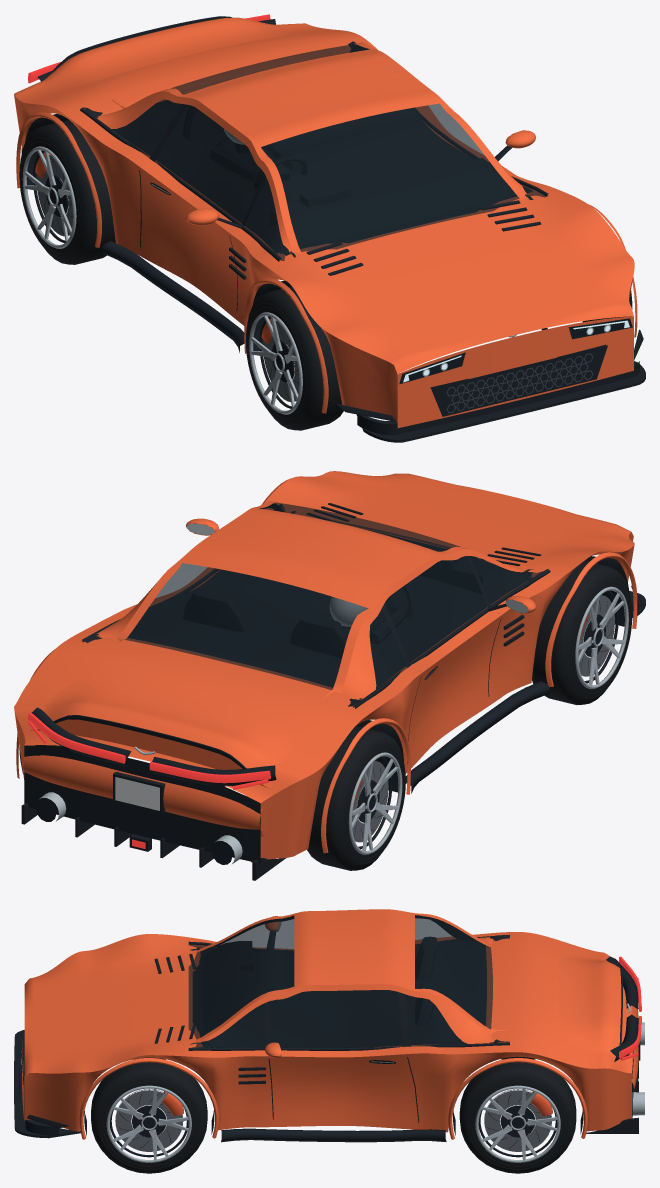
File: kestrel-gt-runtime.glb
3 views of the same model, one above another, from view 1: azimuth 30°, elevation 25°; view 2: azimuth 150°, elevation 25°; view 3: azimuth 270°, elevation 25° (orthographic). The views are drawn at different scales.
Parts seen in each view (by area): view 1: Kestrel_paint, Kestrel_glass, Kestrel_cabin, Kestrel_graphite, wheel_rear_left_spin_rubber, wheel_front_left_spin_rubber, Intake shadow, Machined honeycomb intake, wheel_rear_left_rotor, wheel_front_left_rotor, Forged split spokes.002, Forged split spokes (+2 smaller); view 2: Kestrel_paint, Kestrel_glass, Kestrel_cabin, Kestrel_graphite, wheel_front_left_spin_rubber, wheel_rear_left_spin_rubber, Rear painted bumper, Kestrel_brakelights, wheel_front_left_rotor, wheel_rear_left_rotor, Forged split spokes.002, Forged split spokes (+4 smaller); view 3: Kestrel_paint, Kestrel_glass, Kestrel_cabin, Kestrel_graphite, wheel_rear_right_spin_rubber, wheel_front_right_spin_rubber, wheel_front_right_rotor, wheel_rear_right_rotor, Forged split spokes.003, Forged split spokes.001, wheel_rear_right_spin_wheel_finish, wheel_front_right_spin_wheel_finish (+4 smaller).
Part boxes in pixels (x1,y1,x2,y2): Kestrel_paint: (14,17,637,428); Kestrel_glass: (96,44,630,383); Kestrel_cabin: (82,41,533,257); Kestrel_graphite: (21,16,645,442); wheel_rear_left_spin_rubber: (19,120,115,264); wheel_front_left_spin_rubber: (245,286,343,430); Intake shadow: (431,345,607,416); Machined honeycomb intake: (446,353,593,413); wheel_rear_left_rotor: (36,155,73,236); wheel_front_left_rotor: (263,320,299,401); Forged split spokes.002: (24,150,71,242); Forged split spokes: (251,316,298,407); Kestrel_paint: (14,471,637,862); Kestrel_glass: (82,502,542,707); Kestrel_cabin: (82,503,532,719); Kestrel_graphite: (21,503,645,880); wheel_front_left_spin_rubber: (532,560,632,704); wheel_rear_left_spin_rubber: (307,726,405,870); Rear painted bumper: (23,745,264,836); Kestrel_brakelights: (28,712,270,849); wheel_front_left_rotor: (578,595,614,676); wheel_rear_left_rotor: (352,761,388,842); Forged split spokes.002: (352,759,398,851); Forged split spokes: (578,593,624,685); Kestrel_paint: (22,909,631,1139); Kestrel_glass: (21,915,492,1083); Kestrel_cabin: (190,915,509,1047); Kestrel_graphite: (14,931,640,1142); wheel_rear_right_spin_rubber: (459,1057,576,1173); wheel_front_right_spin_rubber: (91,1057,207,1173); wheel_front_right_rotor: (115,1089,183,1151); wheel_rear_right_rotor: (484,1089,551,1151); Forged split spokes.003: (482,1088,557,1160); Forged split spokes.001: (113,1088,188,1160); wheel_rear_right_spin_wheel_finish: (475,1085,560,1162); wheel_front_right_spin_wheel_finish: (106,1085,191,1162).
Bounding box in the file's own units: 2.41 × 1.38 × 4.66.
